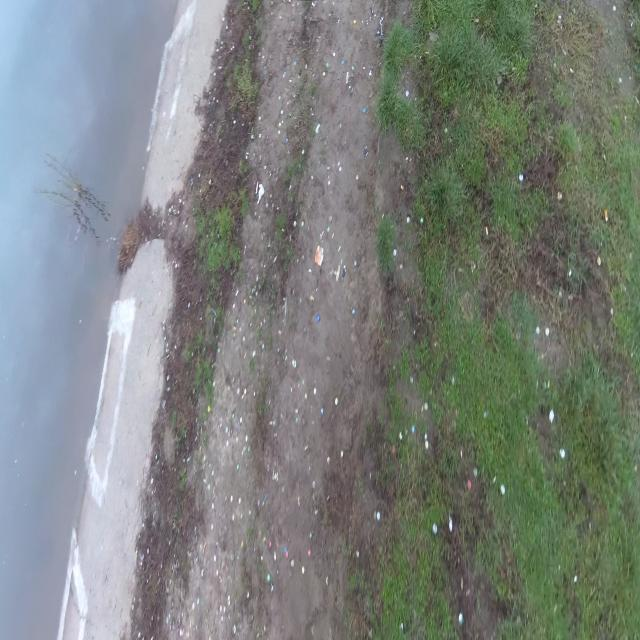rubbish: (314, 245, 324, 270)
